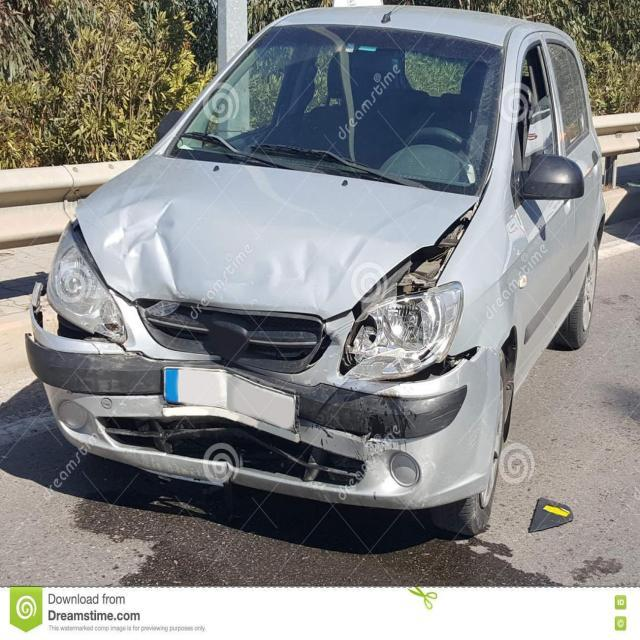damaged: (33, 202, 479, 505)
